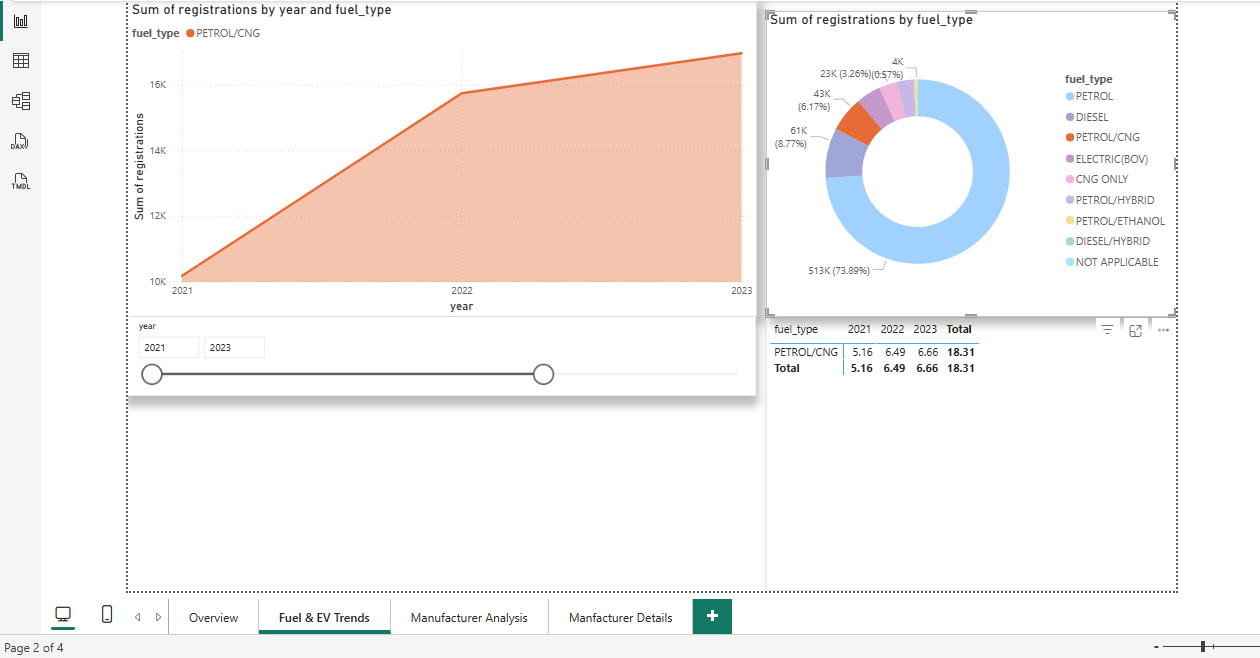

What the dashboard file says about the page in this screenshot:
{"tool":"powerbi","page":{"name":"Fuel & EV Trends","canvas":[1280,720],"ordinal":1},"visuals":[{"type":"stackedAreaChart","fields":{"Category":["ev_fuel_trends.year"],"Y":["Sum(ev_fuel_trends.registrations)"],"Series":["ev_fuel_trends.fuel_type"]},"box":[0,0,766.6,385.4],"z":0},{"type":"slicer","fields":{"Values":["ev_fuel_trends.year"]},"box":[0,360.6,766.6,96.3],"z":1000},{"type":"donutChart","fields":{"Y":["Sum(ev_fuel_trends.registrations)"],"Category":["ev_fuel_trends.fuel_type"]},"box":[779,12.4,501,373],"z":2000},{"type":"pivotTable","fields":{"Rows":["ev_fuel_trends.fuel_type"],"Columns":["ev_fuel_trends.year"],"Values":["Sum(ev_fuel_trends.market_share_pct)"]},"box":[779,385.4,501,334.5],"z":3000}]}

Visuals, with their boxes on the page's 1280x720 design canvas (x1, y1, x2, y2). These are canvas units, not pixel positions in the 1260x658 screenshot, which may show the page scaled, cropped or inside an application window:
stackedAreaChart - ev_fuel_trends.year x Sum(ev_fuel_trends.registrations): (0, 0, 767, 385)
slicer - ev_fuel_trends.year: (0, 361, 767, 457)
donutChart - Sum(ev_fuel_trends.registrations) x ev_fuel_trends.fuel_type: (779, 12, 1280, 385)
pivotTable - ev_fuel_trends.fuel_type x ev_fuel_trends.year: (779, 385, 1280, 720)
